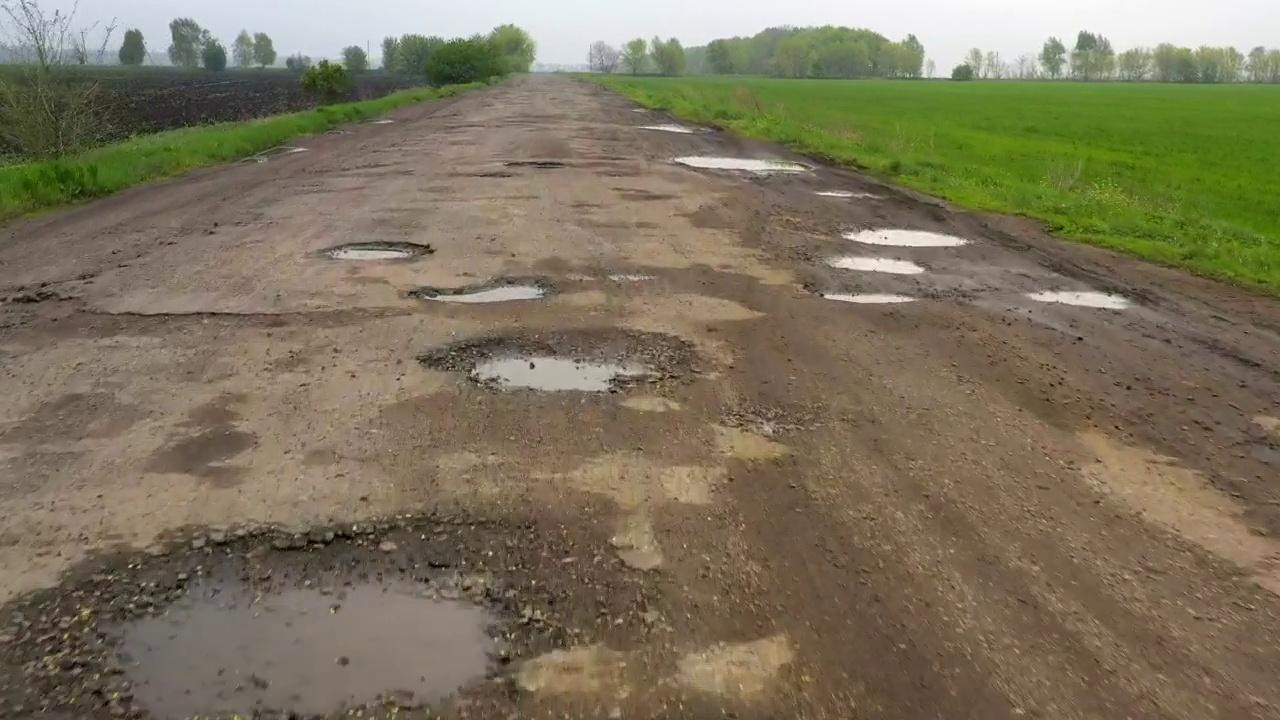bache: (0, 516, 583, 719), (0, 291, 410, 347), (416, 327, 694, 392), (407, 278, 550, 303), (672, 155, 810, 174), (842, 229, 967, 247), (320, 241, 433, 260), (1029, 291, 1129, 309), (828, 258, 924, 274), (820, 293, 914, 303)
